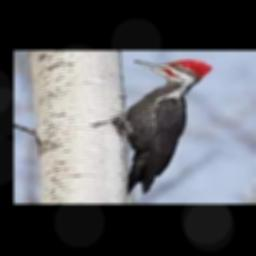Woodpecker: (116, 60, 212, 196)
